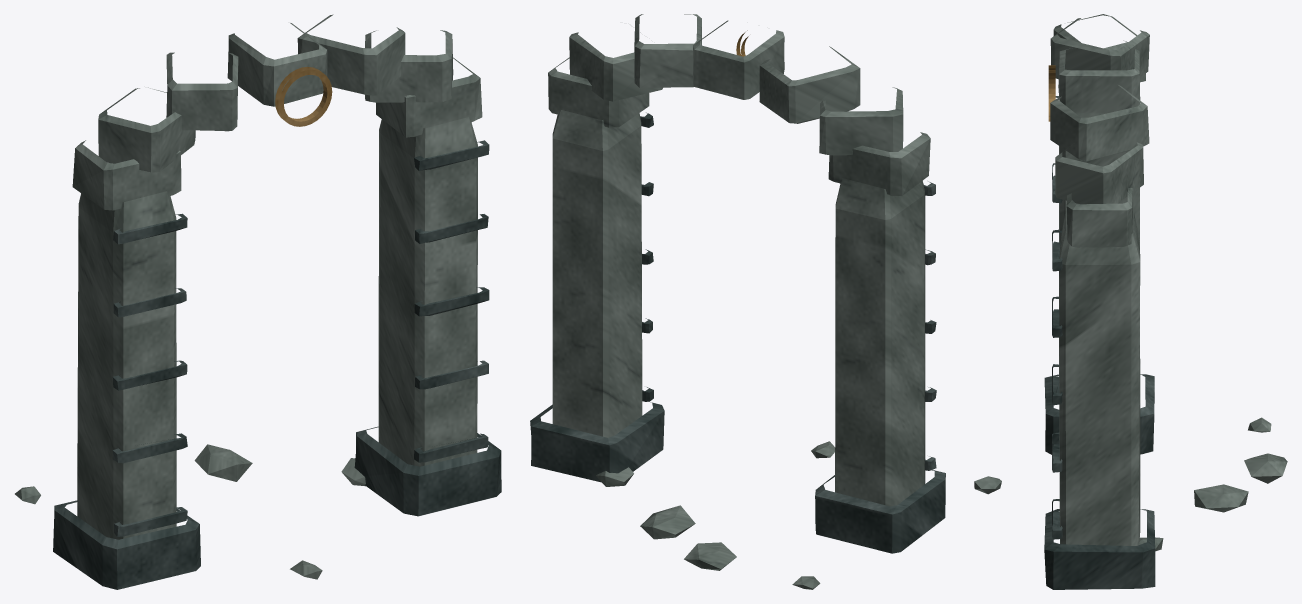
The model's file is 0312_archway_12.glb.
The picture shows the model from 3 angles, left to right: view 1: azimuth 30°, elevation 25°; view 2: azimuth 150°, elevation 25°; view 3: azimuth 270°, elevation 25°; orthographic projection. The views are drawn at different scales.
Parts seen in each view (by area): view 1: stone, stone_dark, brass; view 2: stone, stone_dark; view 3: stone, stone_dark.
Boxes of the visible parts, left/top/right/bottom form: stone: left=15, top=14, right=482, bottom=579; stone_dark: left=53, top=140, right=501, bottom=589; brass: left=275, top=66, right=332, bottom=126; stone: left=548, top=14, right=930, bottom=589; stone_dark: left=530, top=112, right=945, bottom=553; stone: left=974, top=14, right=1287, bottom=551; stone_dark: left=1044, top=96, right=1155, bottom=589.
Bounding box in the file's own units: 3.28 × 3.84 × 2.44.
3 materials, 3 textured.
